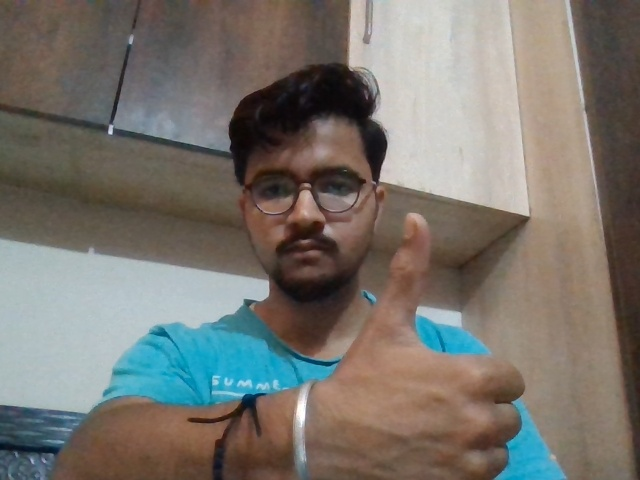yes: (319, 200, 535, 480)
